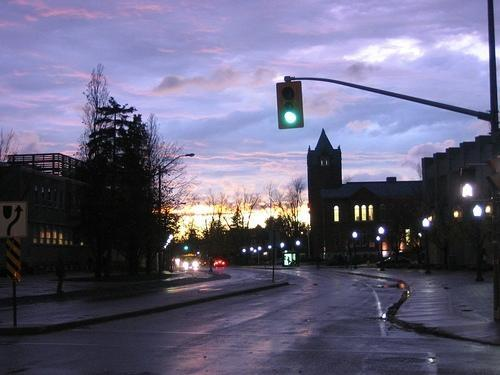bus: (178, 255, 199, 272)
car: (180, 254, 200, 271), (376, 256, 410, 266), (212, 258, 226, 268)
